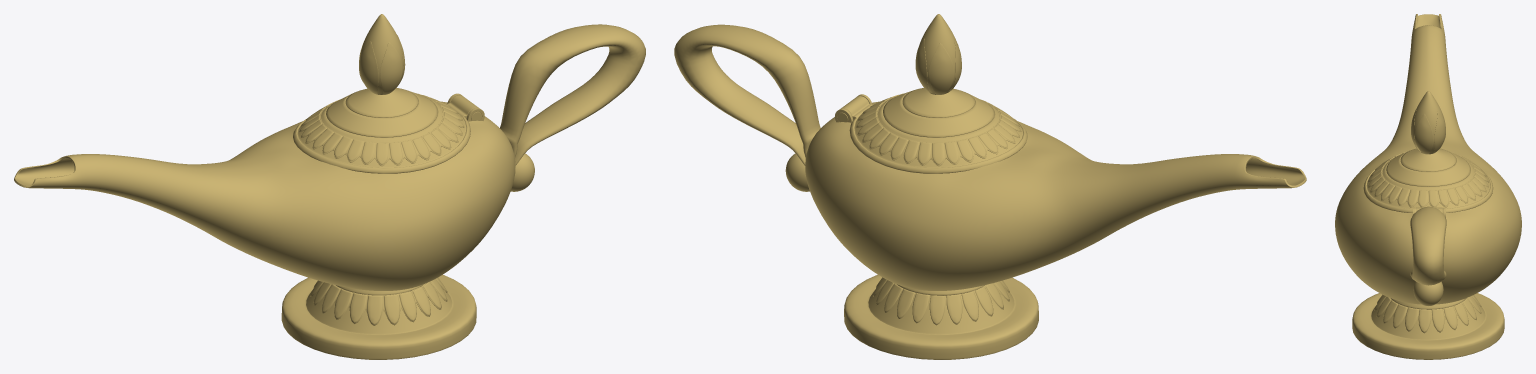
The model's file is genie.glb.
3 views of the same model, side by side, from view 1: azimuth 30°, elevation 25°; view 2: azimuth 150°, elevation 25°; view 3: azimuth 270°, elevation 25° (orthographic). The views are drawn at different scales.
Parts seen in each view (by area): view 1: polySurface1__pPlane7_group_15 - Default_0; view 2: polySurface1__pPlane7_group_15 - Default_0; view 3: polySurface1__pPlane7_group_15 - Default_0.
Part boxes in pixels (left/top/right/bottom): polySurface1__pPlane7_group_15 - Default_0: left=14, top=14, right=645, bottom=359; polySurface1__pPlane7_group_15 - Default_0: left=674, top=14, right=1306, bottom=359; polySurface1__pPlane7_group_15 - Default_0: left=1335, top=14, right=1521, bottom=359.
Size of the model in its own units: 0.8817 by 0.4082 by 0.2909.
